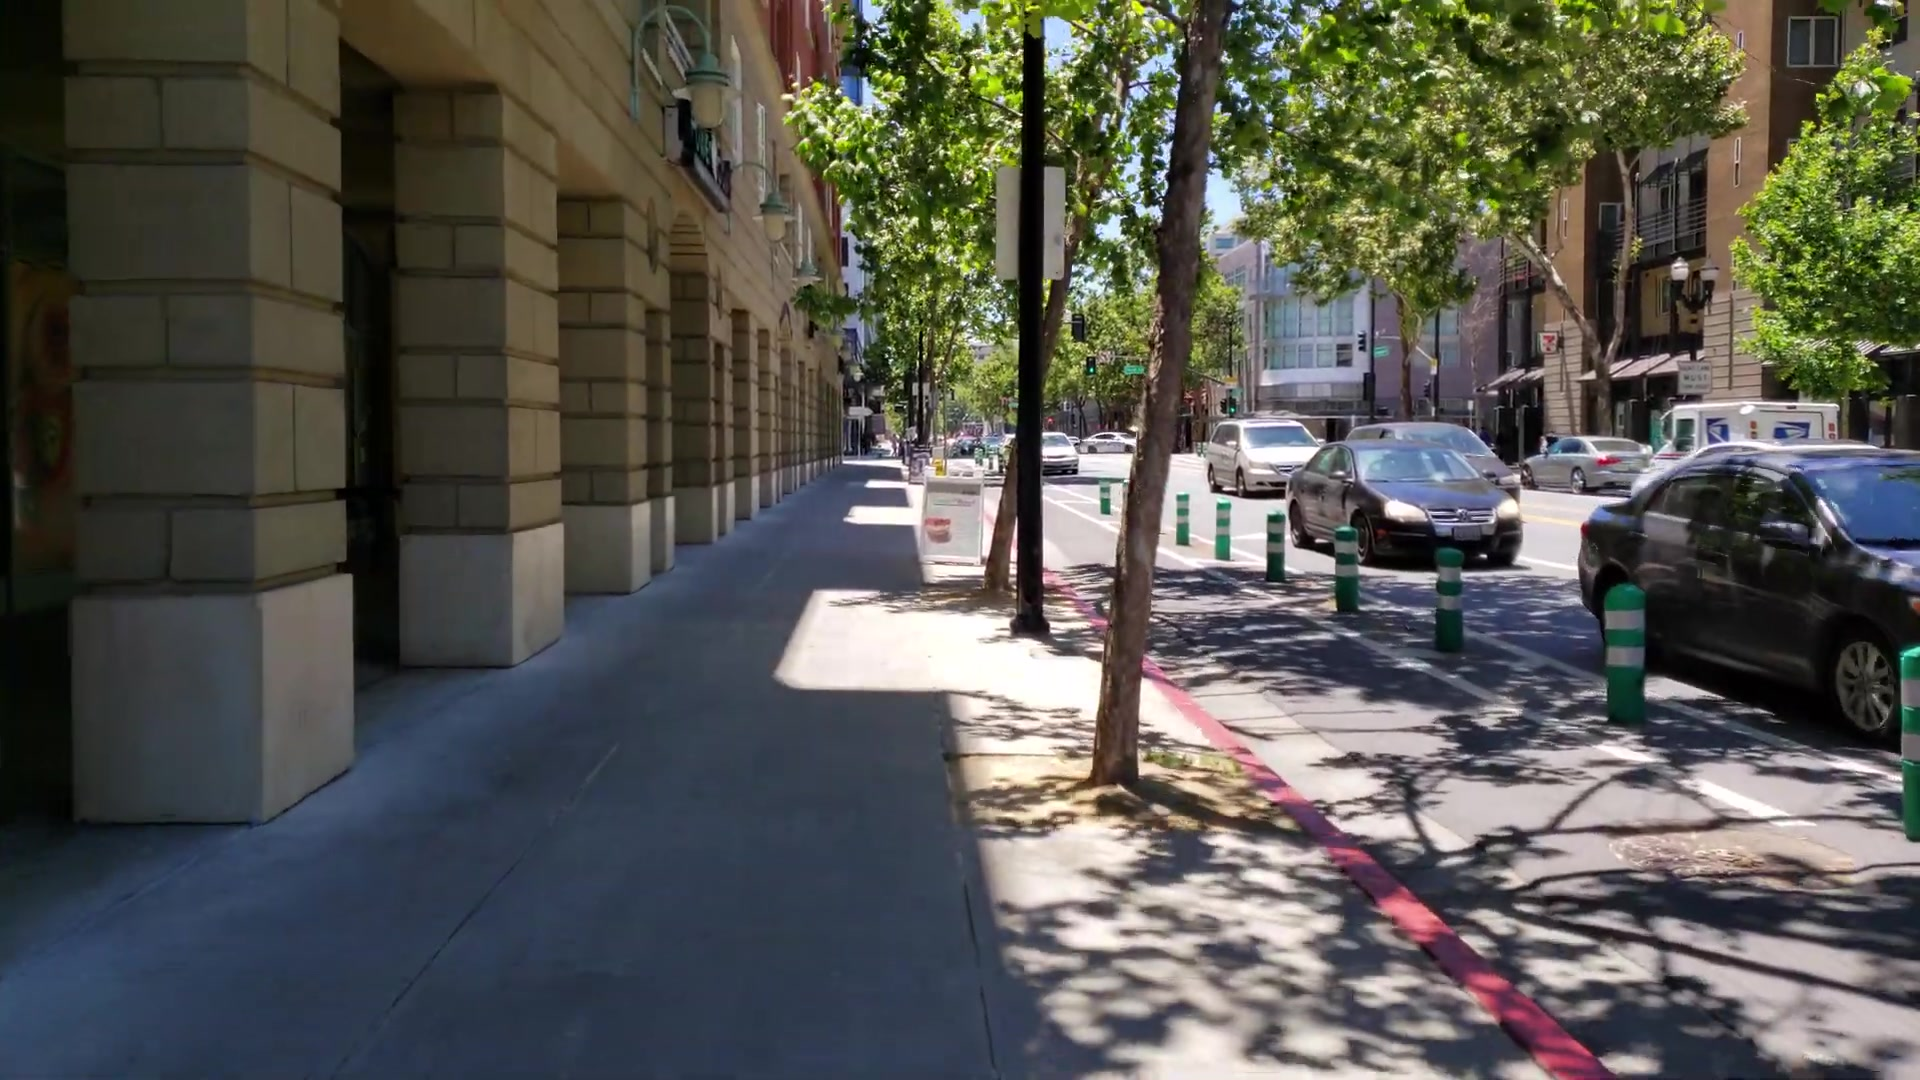vehicle: (1286, 439, 1524, 571), (1207, 421, 1321, 498)
